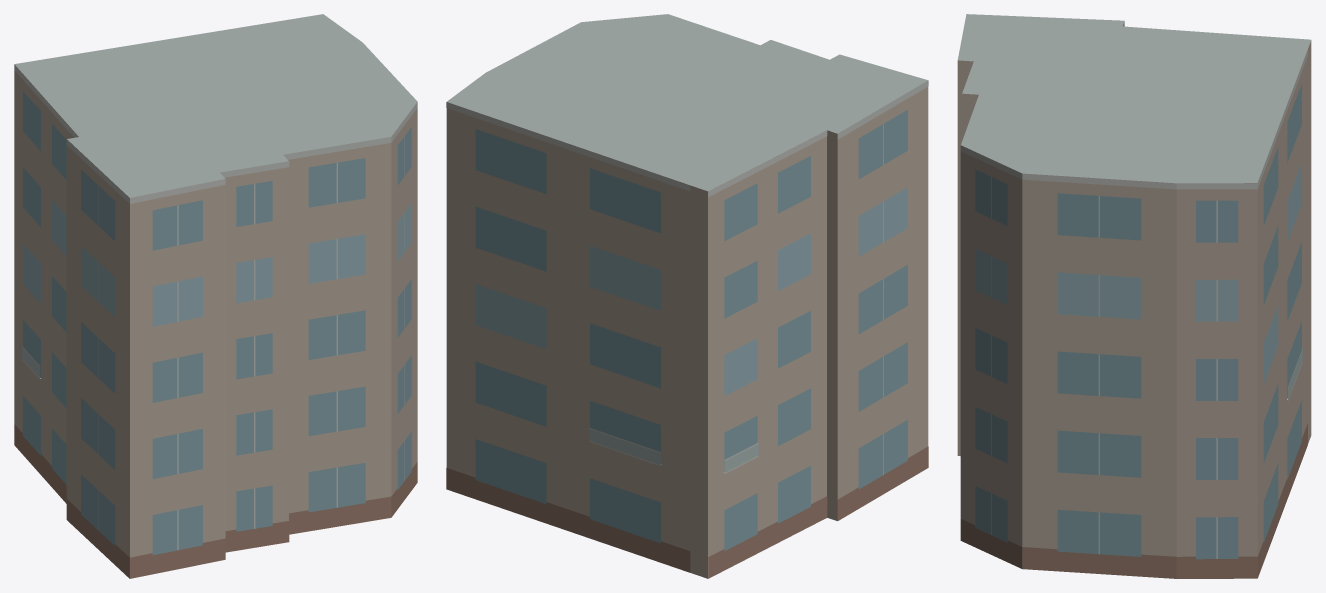
The model's file is survey-upis-32941197.glb.
The picture shows the model from 3 angles, left to right: view 1: azimuth 30°, elevation 25°; view 2: azimuth 150°, elevation 25°; view 3: azimuth 270°, elevation 25°; orthographic projection. The views are drawn at different scales.
Parts seen in each view (by area): view 1: survey-upis-32941197.tmp; view 2: survey-upis-32941197.tmp; view 3: survey-upis-32941197.tmp.
Part boxes in pixels (x1=…): survey-upis-32941197.tmp: x1=14, y1=14, x2=417, y2=578; survey-upis-32941197.tmp: x1=446, y1=14, x2=928, y2=578; survey-upis-32941197.tmp: x1=957, y1=14, x2=1311, y2=578.
Size of the model in its own units: 14.38 by 15.65 by 12.69.
